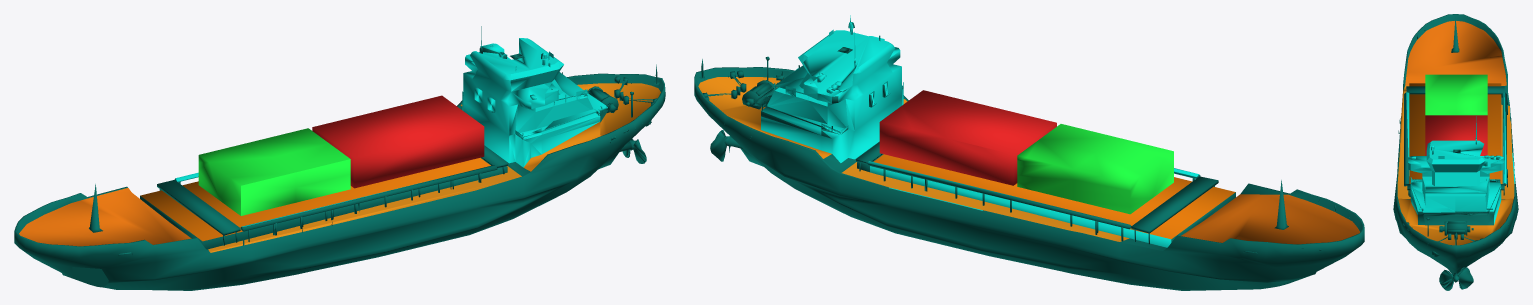
The model's file is cargo ship 3d model.glb.
3 views of the same model, side by side, from view 1: azimuth 30°, elevation 25°; view 2: azimuth 150°, elevation 25°; view 3: azimuth 270°, elevation 25° (orthographic). The views are drawn at different scales.
Visible parts, largest first — view 1: 船身, 集装箱2, 集装箱1, 前甲板, 指挥塔, 甲板颜色, 指挥塔2, 中甲板, 后甲板, 指挥塔1; view 2: 船身, 集装箱2, 集装箱1, 指挥塔, 指挥塔2, 前甲板, 甲板颜色, 指挥塔1, 中甲板, 后甲板; view 3: 船身, 指挥塔, 前甲板, 集装箱1, 甲板颜色, 集装箱2, 后甲板, 中甲板, 指挥塔1, 指挥塔2.
Part boxes in pixels (x1,y1,x2,y2): 船身: [14, 46, 665, 290]; 集装箱2: [312, 95, 484, 188]; 集装箱1: [198, 128, 350, 215]; 前甲板: [19, 188, 191, 246]; 指挥塔: [176, 26, 607, 226]; 甲板颜色: [140, 158, 490, 241]; 指挥塔2: [462, 46, 532, 166]; 中甲板: [208, 166, 521, 252]; 后甲板: [461, 83, 660, 171]; 指挥塔1: [465, 38, 590, 128]; 船身: [694, 22, 1364, 290]; 集装箱2: [879, 90, 1056, 185]; 集装箱1: [1017, 124, 1173, 214]; 指挥塔: [767, 15, 1198, 247]; 指挥塔2: [761, 39, 903, 162]; 前甲板: [1181, 194, 1359, 244]; 甲板颜色: [873, 154, 1235, 239]; 指挥塔1: [803, 30, 900, 96]; 中甲板: [842, 162, 1129, 241]; 后甲板: [698, 77, 907, 158]; 船身: [1393, 14, 1518, 290]; 指挥塔: [1406, 92, 1515, 214]; 前甲板: [1405, 21, 1506, 85]; 集装箱1: [1425, 74, 1487, 115]; 甲板颜色: [1409, 83, 1501, 183]; 集装箱2: [1425, 115, 1487, 155]; 后甲板: [1398, 198, 1513, 245]; 中甲板: [1397, 85, 1514, 198]; 指挥塔1: [1408, 140, 1503, 204]; 指挥塔2: [1486, 156, 1501, 224].
Bounding box in the file's own units: 0.998 × 0.2637 × 0.2285.
